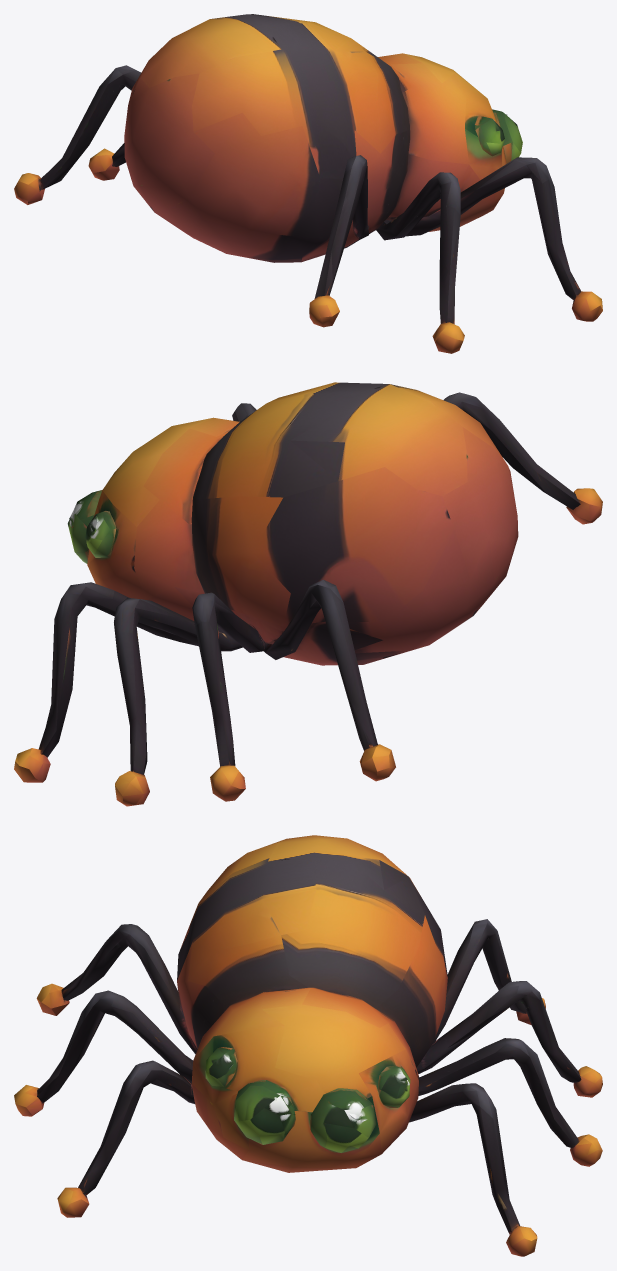
The model's file is E3_Dangle_LOD2.fbx.
3 views of the same model, one above another, from view 1: azimuth 30°, elevation 25°; view 2: azimuth 150°, elevation 25°; view 3: azimuth 270°, elevation 25° (orthographic). The views are drawn at different scales.
Parts seen in each view (by area): view 1: E3_Dangle_LOD2; view 2: E3_Dangle_LOD2; view 3: E3_Dangle_LOD2.
Boxes of the visible parts, left/top/right/bottom form: E3_Dangle_LOD2: left=14, top=14, right=602, bottom=353; E3_Dangle_LOD2: left=14, top=382, right=602, bottom=806; E3_Dangle_LOD2: left=14, top=835, right=602, bottom=1256.
Size of the model in its own units: 0.1141 by 0.0902 by 0.1552.
Materials: 1 (1 with a texture image).
